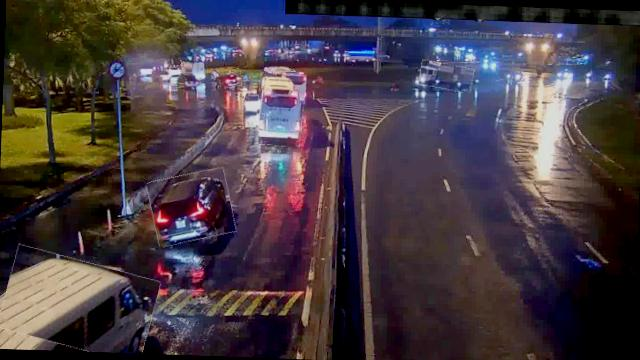Bus: (0, 252, 158, 354), (256, 73, 306, 148)
Car: (147, 169, 235, 246), (176, 72, 199, 89), (219, 72, 242, 88)
Truck: (419, 62, 474, 92)
